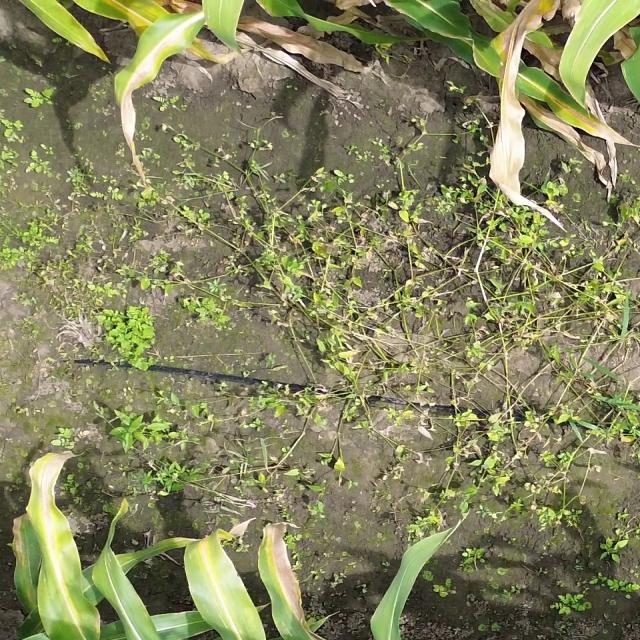northern-leaf-blight: (13, 452, 124, 640), (458, 35, 614, 149), (43, 0, 233, 70), (102, 12, 202, 141), (248, 514, 344, 634)
